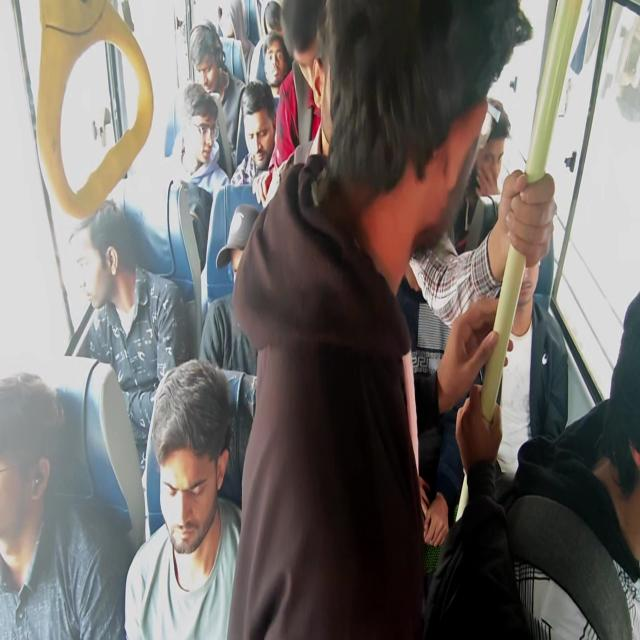person: (325, 25, 453, 286), (557, 310, 640, 631), (74, 221, 170, 377), (278, 12, 359, 140), (0, 404, 46, 619), (228, 207, 284, 332), (500, 239, 554, 347), (167, 398, 210, 520), (176, 96, 220, 200), (471, 111, 520, 202), (188, 23, 238, 99), (250, 98, 278, 168), (262, 46, 296, 98), (226, 0, 254, 29)
